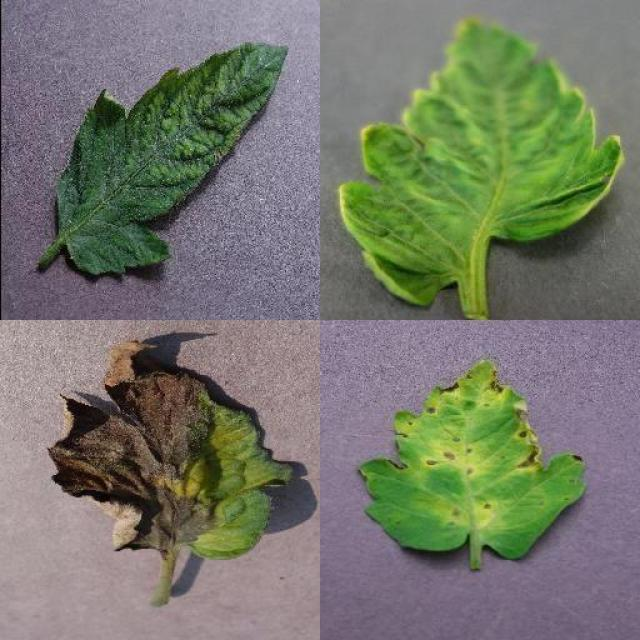Late Blight: (46, 337, 296, 565)
Septoria: (358, 359, 586, 561)
